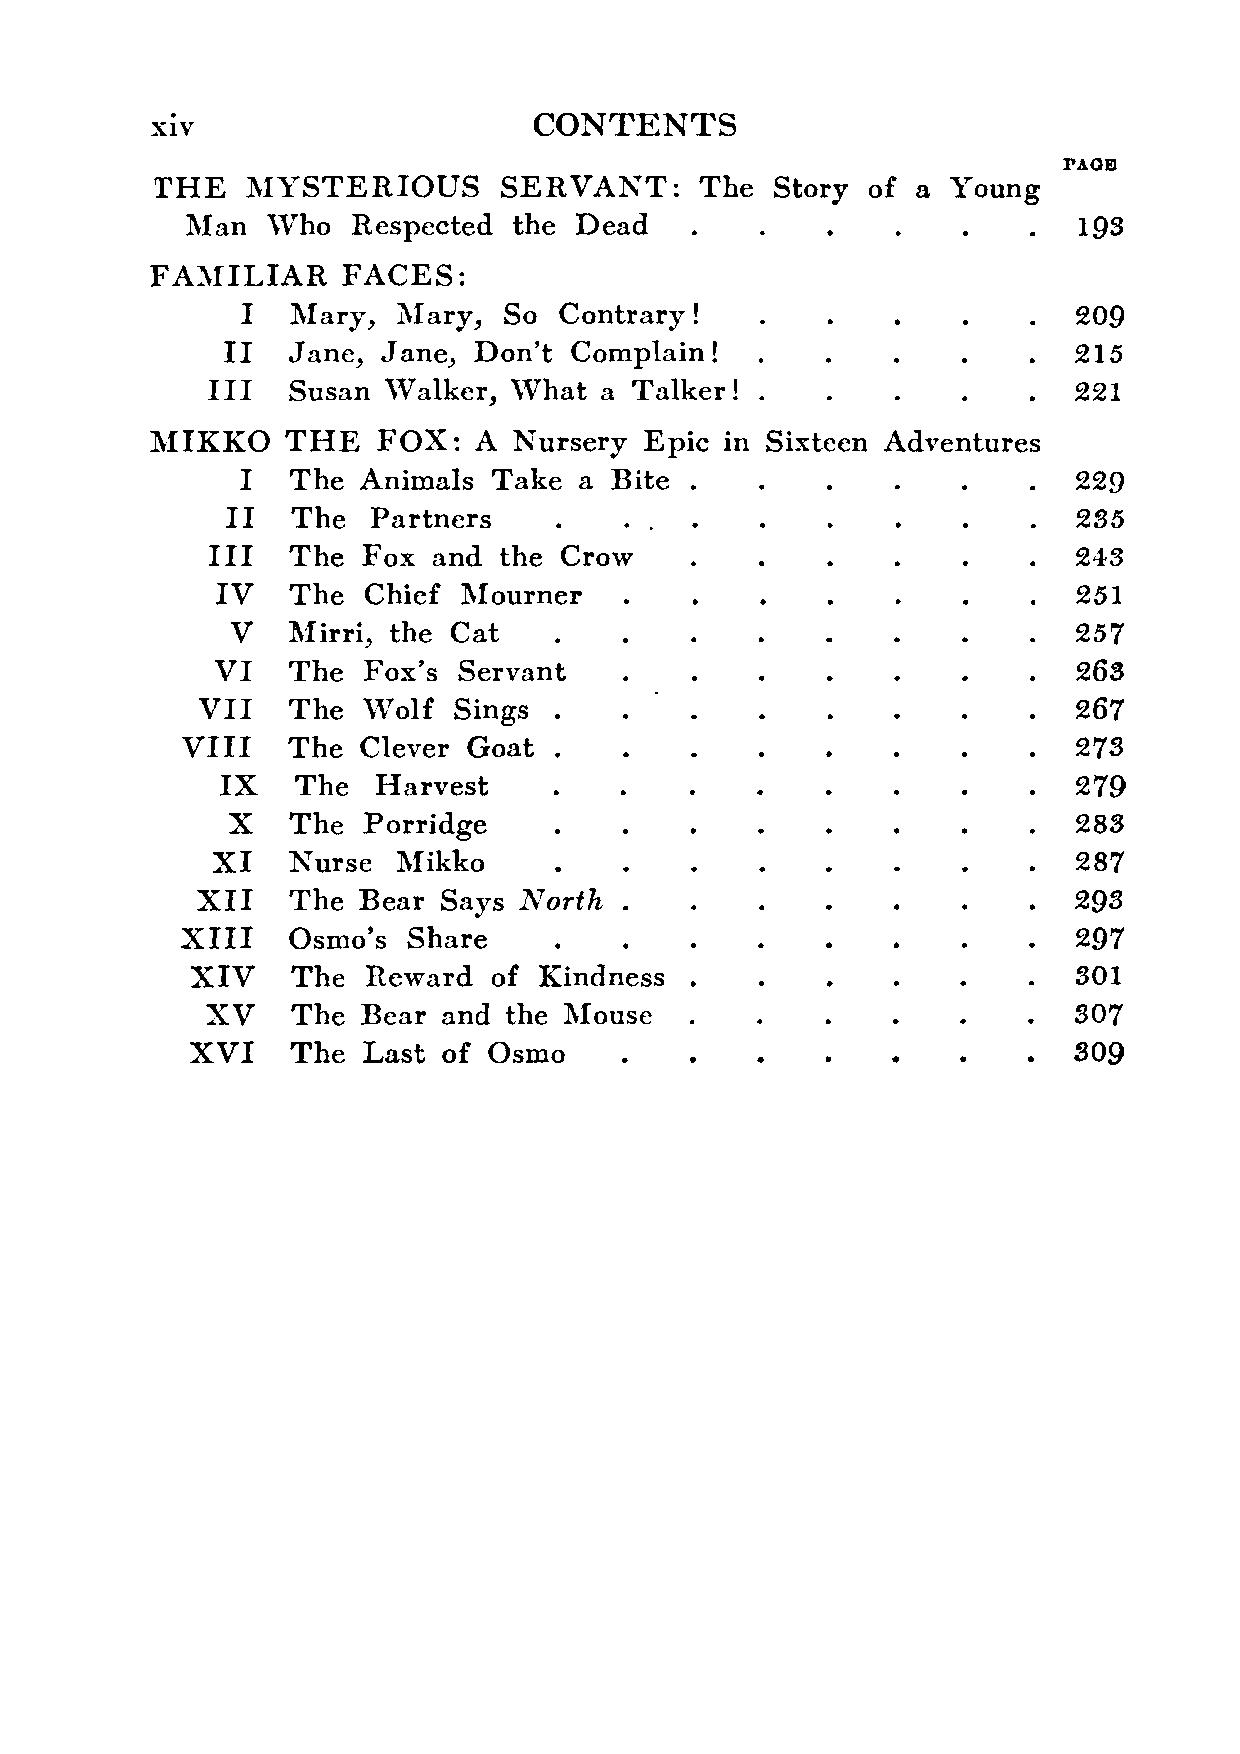TOC_chapter: (150, 166, 1045, 242), (144, 413, 1045, 462), (219, 331, 729, 372), (208, 372, 750, 404), (228, 297, 703, 333), (199, 997, 658, 1033), (203, 537, 635, 573), (189, 960, 671, 992), (225, 462, 683, 495), (208, 573, 595, 611), (183, 1035, 570, 1071), (162, 917, 493, 958), (187, 884, 607, 917), (205, 651, 577, 687), (176, 729, 542, 765), (137, 251, 468, 287), (189, 692, 535, 726), (215, 768, 497, 807), (205, 841, 493, 879), (219, 501, 505, 538), (224, 807, 488, 841), (219, 617, 505, 646)
TOC_pagenumber: (1068, 195, 1133, 251), (1070, 760, 1129, 804), (1070, 1031, 1129, 1072), (1068, 289, 1129, 329), (1070, 455, 1127, 497), (1070, 576, 1129, 615), (1070, 336, 1131, 370), (1070, 843, 1129, 878), (1070, 503, 1131, 535), (1070, 535, 1129, 569), (1070, 692, 1127, 723), (1075, 958, 1127, 992), (1068, 998, 1127, 1028), (1072, 374, 1126, 407), (1072, 807, 1126, 839), (1075, 654, 1127, 686), (1072, 921, 1125, 953), (1066, 731, 1127, 758), (1072, 882, 1122, 914), (1070, 619, 1129, 646)
chapter: (525, 103, 741, 146)
